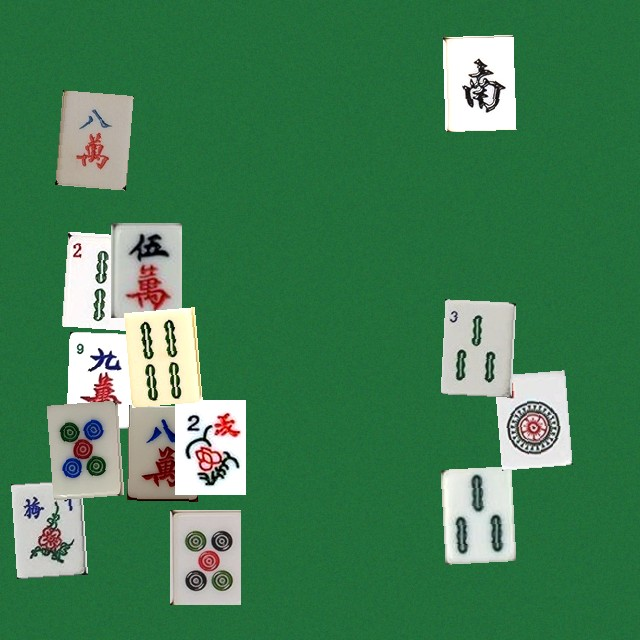tile: (10, 479, 81, 574), (66, 331, 137, 426), (440, 466, 511, 561), (442, 34, 513, 129), (55, 90, 126, 185), (61, 231, 132, 326), (110, 222, 181, 317), (127, 405, 198, 500), (494, 370, 565, 465), (46, 400, 117, 495), (174, 399, 245, 494), (169, 509, 240, 604), (124, 307, 195, 402), (440, 299, 511, 394)
